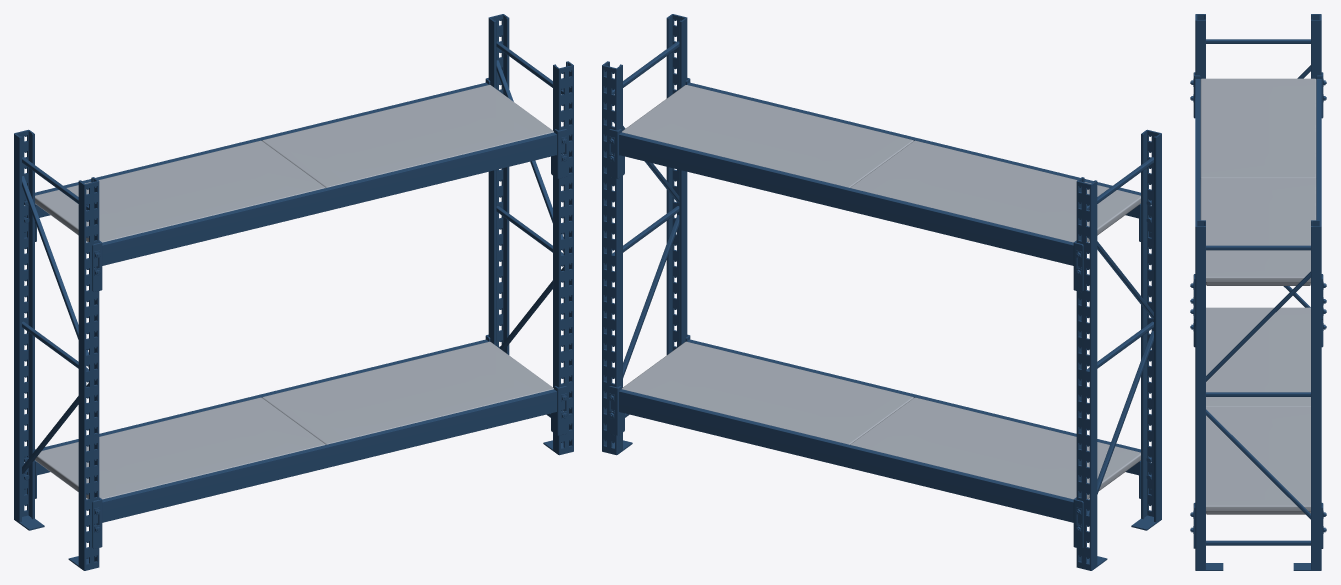
The picture shows the model from 3 angles, left to right: view 1: azimuth 30°, elevation 25°; view 2: azimuth 150°, elevation 25°; view 3: azimuth 270°, elevation 25°; orthographic projection. The views are drawn at different scales.
Visible parts, largest first — view 1: part_ccca70fad3f958f6; view 2: part_ccca70fad3f958f6; view 3: part_ccca70fad3f958f6.
Boxes of the visible parts, x1=… form: part_ccca70fad3f958f6: x1=14, y1=14, x2=573, y2=570; part_ccca70fad3f958f6: x1=602, y1=14, x2=1161, y2=570; part_ccca70fad3f958f6: x1=1190, y1=14, x2=1326, y2=570.
Bounding box in the file's own units: 4 × 3.01 × 1.08.
